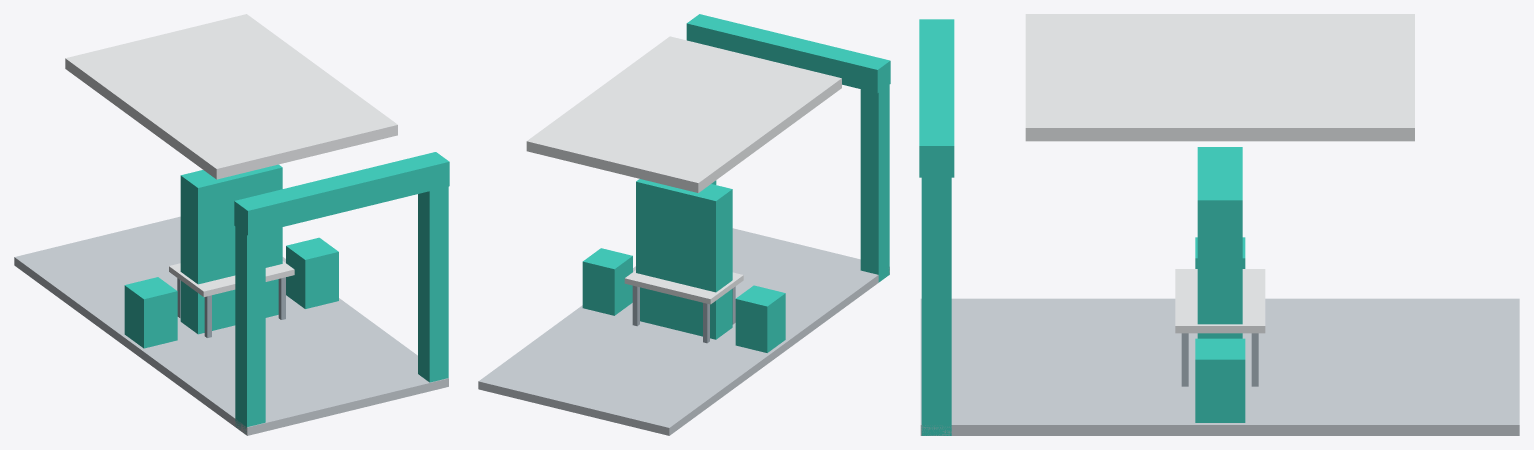
The picture shows the model from 3 angles, left to right: view 1: azimuth 30°, elevation 25°; view 2: azimuth 150°, elevation 25°; view 3: azimuth 270°, elevation 25°; orthographic projection. The views are drawn at different scales.
Parts seen in each view (by area): view 1: Exhibition Booth Concept; view 2: Exhibition Booth Concept; view 3: Exhibition Booth Concept.
Part boxes in pixels (bbox=[...]): Exhibition Booth Concept: bbox=[14, 14, 449, 435]; Exhibition Booth Concept: bbox=[478, 14, 890, 435]; Exhibition Booth Concept: bbox=[919, 14, 1519, 435].
Bounding box in the file's own units: 3 × 3.34 × 6.02.
